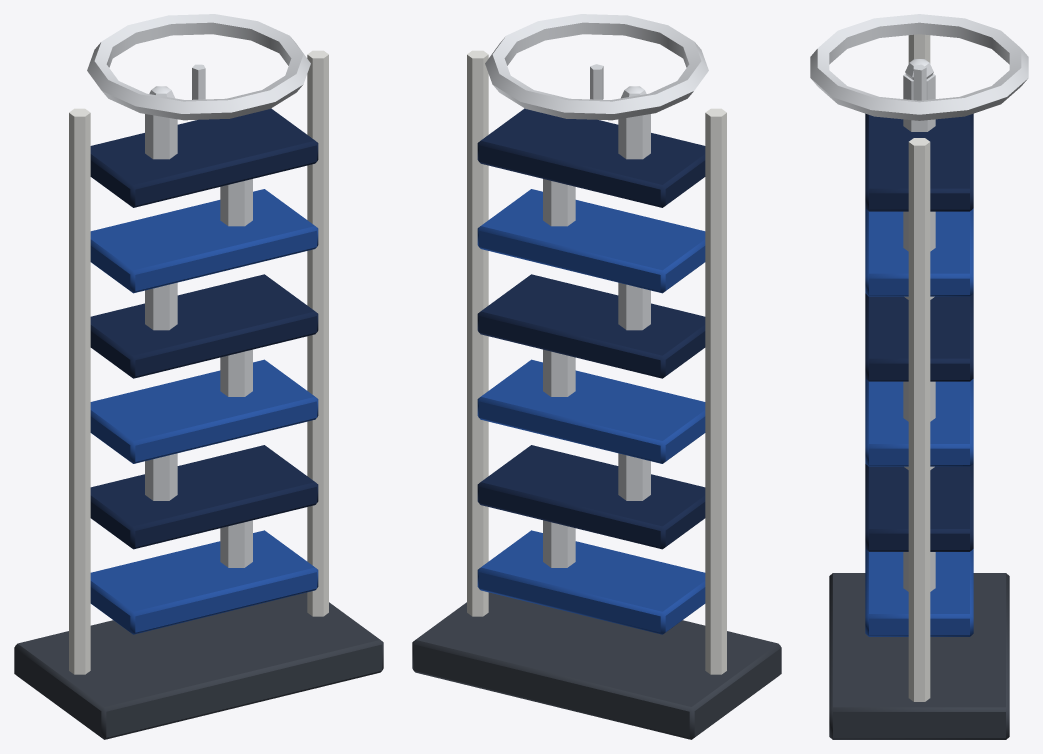
File: capacitor_marx_bank.glb
3 renders of one model, left to right at view 1: azimuth 30°, elevation 25°; view 2: azimuth 150°, elevation 25°; view 3: azimuth 270°, elevation 25°, orthographic.
Parts seen in each view (by area): view 1: capacitor_marx_bank; view 2: capacitor_marx_bank; view 3: capacitor_marx_bank.
Boxes of the visible parts, <box> form: capacitor_marx_bank: <box>14,14,383,739</box>; capacitor_marx_bank: <box>412,14,781,739</box>; capacitor_marx_bank: <box>810,14,1028,739</box>.
Bounding box in the file's own units: 0.9 × 1.88 × 0.6045.
